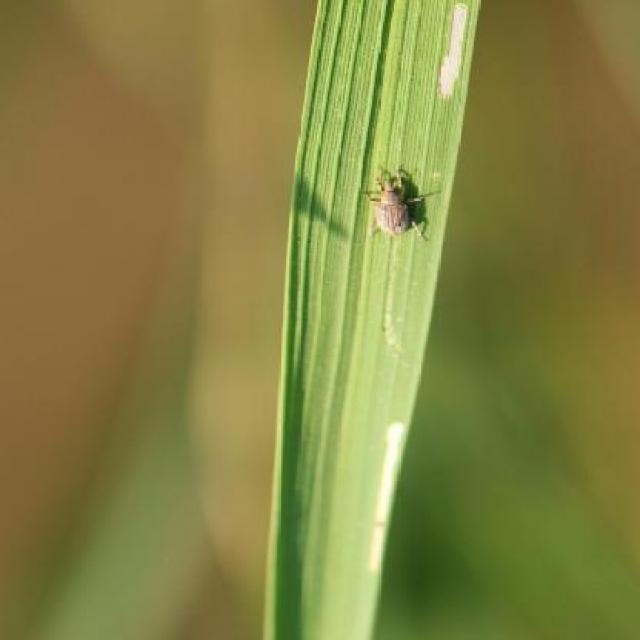rice-bug: (368, 163, 438, 240)
